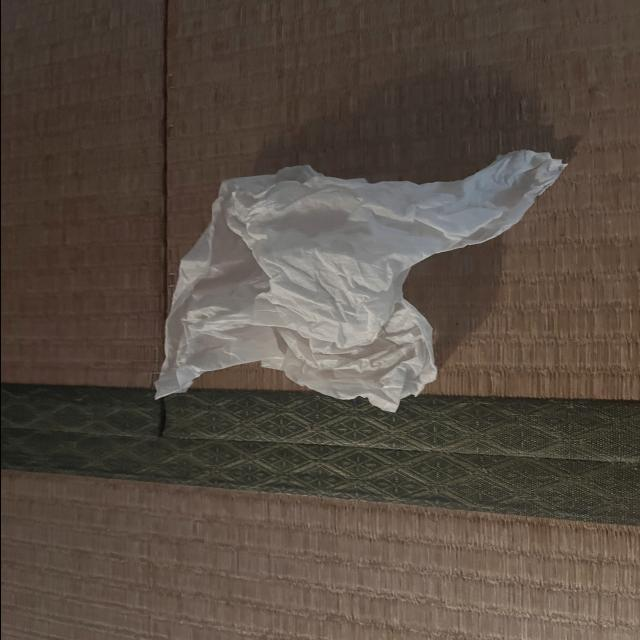Paper: (156, 147, 573, 391)
